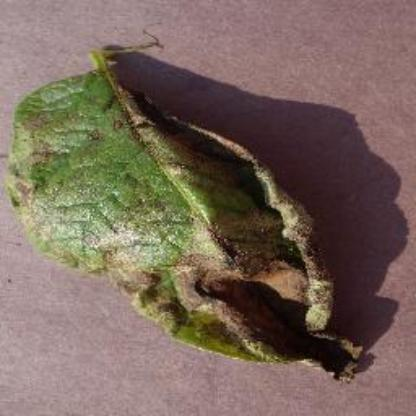Late-Blight: (10, 30, 366, 394)
